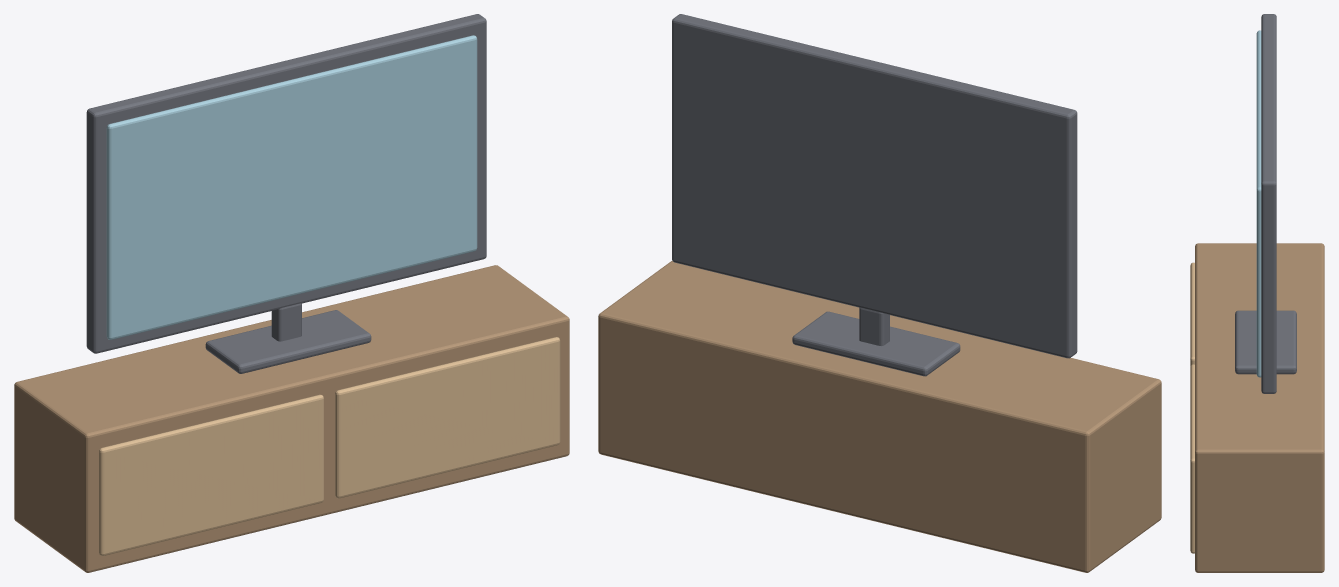
Rendered from TvStand.fbx.
3 renders of one model, left to right at view 1: azimuth 30°, elevation 25°; view 2: azimuth 150°, elevation 25°; view 3: azimuth 270°, elevation 25°, orthographic. The views are drawn at different scales.
Parts seen in each view (by area): view 1: TvStand; view 2: TvStand; view 3: TvStand.
Boxes of the visible parts, x1=… form: TvStand: x1=14, y1=14, x2=569, y2=572; TvStand: x1=598, y1=14, x2=1161, y2=572; TvStand: x1=1190, y1=14, x2=1324, y2=572.
Bounding box in the file's own units: 1.6 × 1.33 × 0.435.
